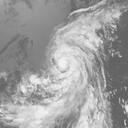cyclone: (47, 27, 99, 89)
